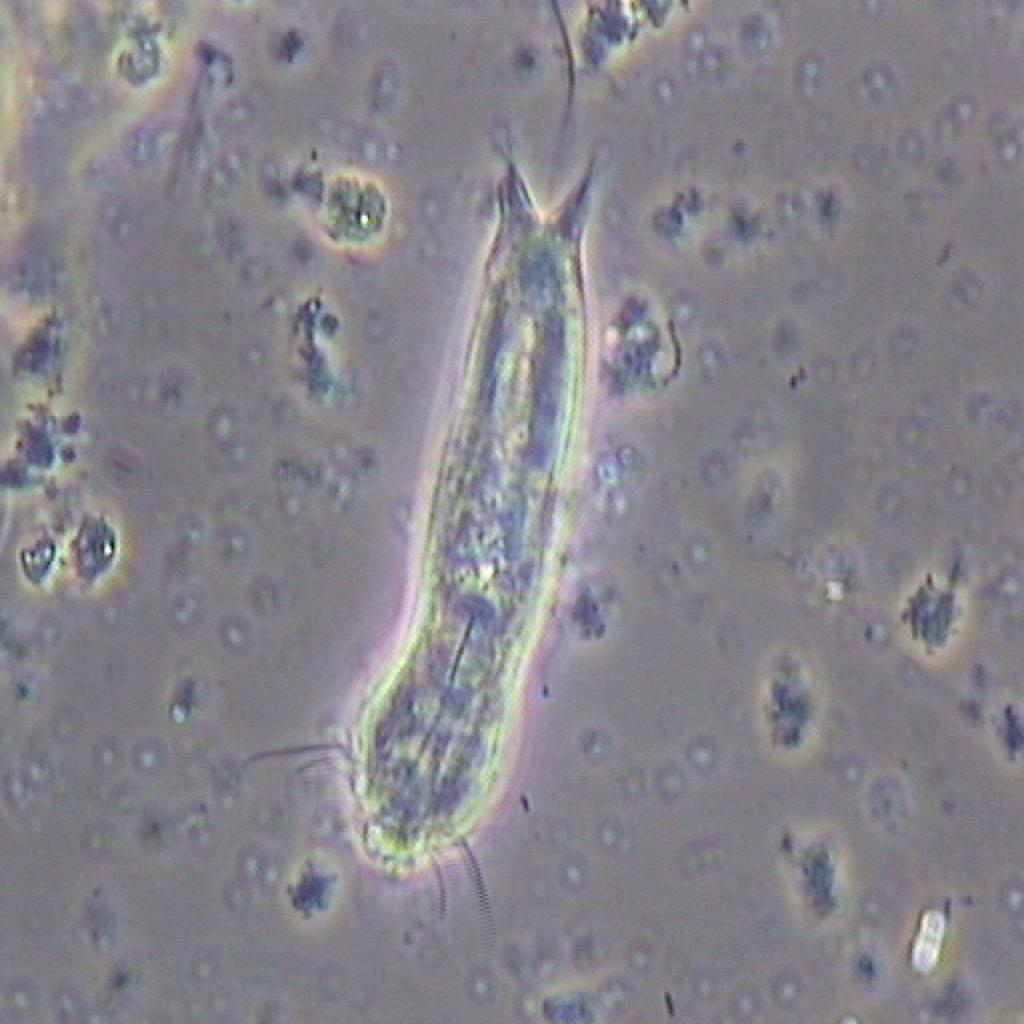Chaetonotus: (295, 155, 607, 910)
